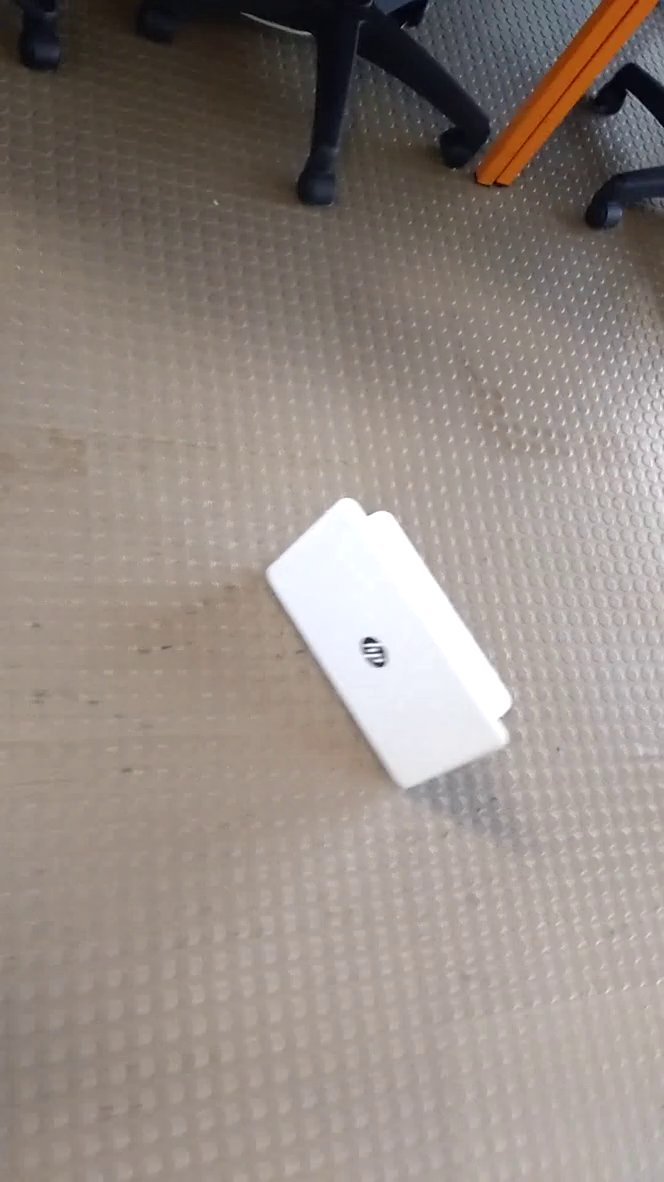laptop: (262, 487, 530, 806)
